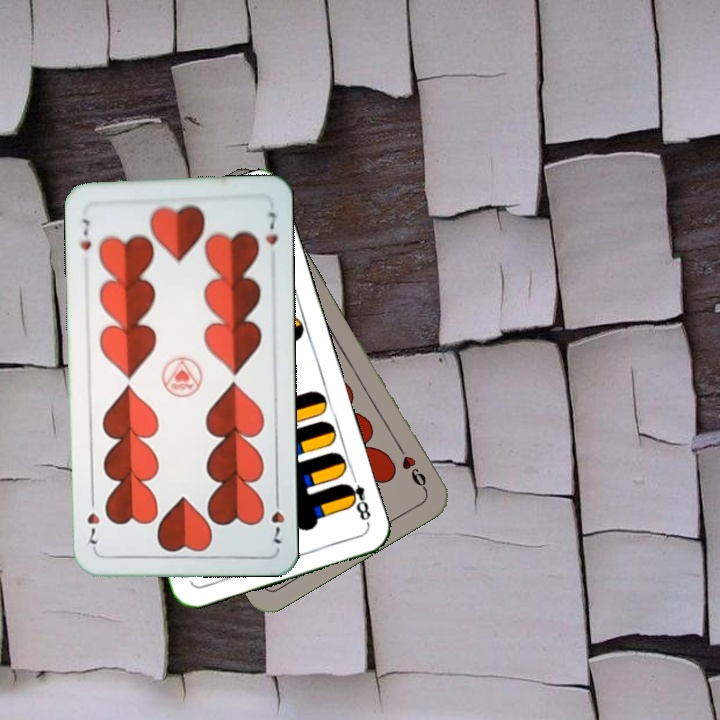E8: (339, 469, 373, 527)
H7: (267, 490, 287, 546), (76, 214, 94, 253)
H9: (393, 440, 430, 493)
